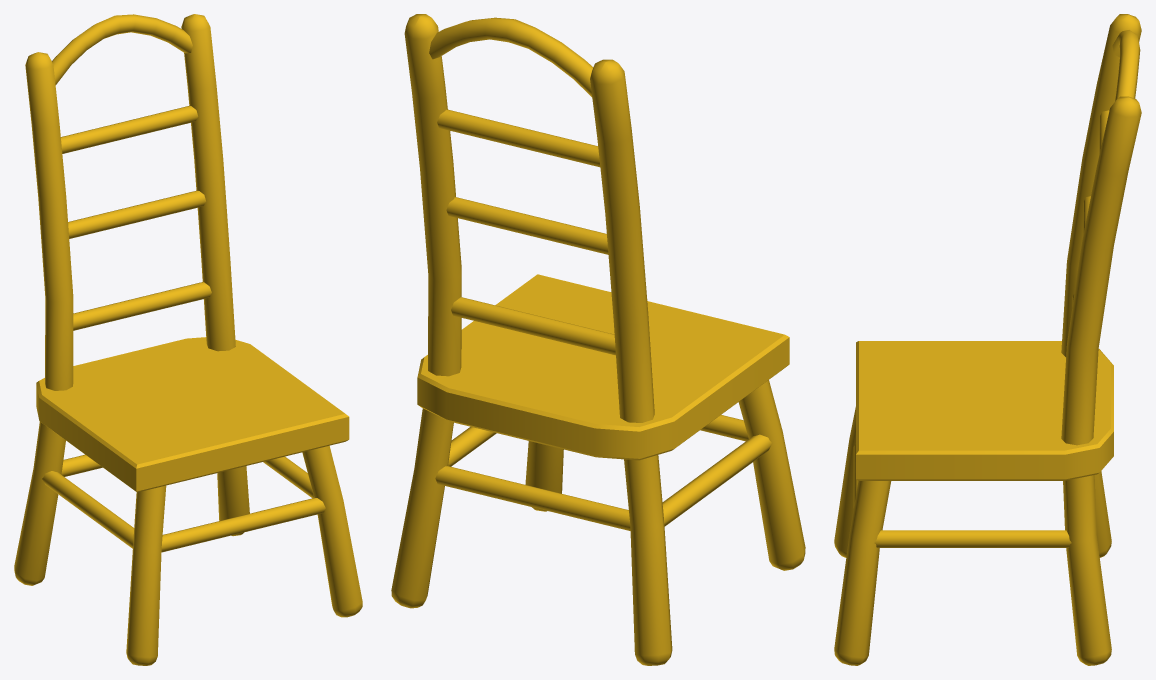
File: CTS_E_CabinChairA.fbx
The picture shows the model from 3 angles, left to right: view 1: azimuth 30°, elevation 25°; view 2: azimuth 150°, elevation 25°; view 3: azimuth 270°, elevation 25°; orthographic projection. The views are drawn at different scales.
Parts seen in each view (by area): view 1: CTS_E_CabinChairA; view 2: CTS_E_CabinChairA; view 3: CTS_E_CabinChairA.
Part boxes in pixels (x1,y1,x2,y2): CTS_E_CabinChairA: (14, 14, 362, 665); CTS_E_CabinChairA: (391, 14, 805, 665); CTS_E_CabinChairA: (834, 14, 1141, 665).
Bounding box in the file's own units: 63.62 × 138 × 67.31.
